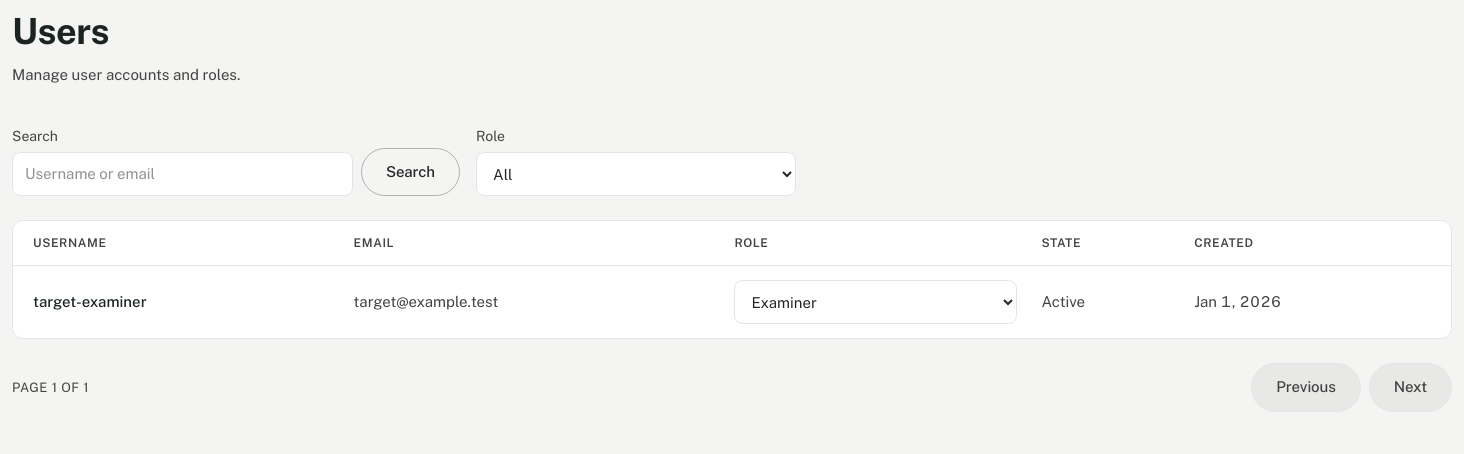
Test: admin role transition review › distinguishes an updated role from a rejected stale transition
Expected: the text "target-examiner" is shown, x1=13 y1=266 x2=342 y2=338
Select "Admin" in the dropdown named "Role for target-examiner" at (876, 302), box x1=734 y1=280 x2=1017 y2=324
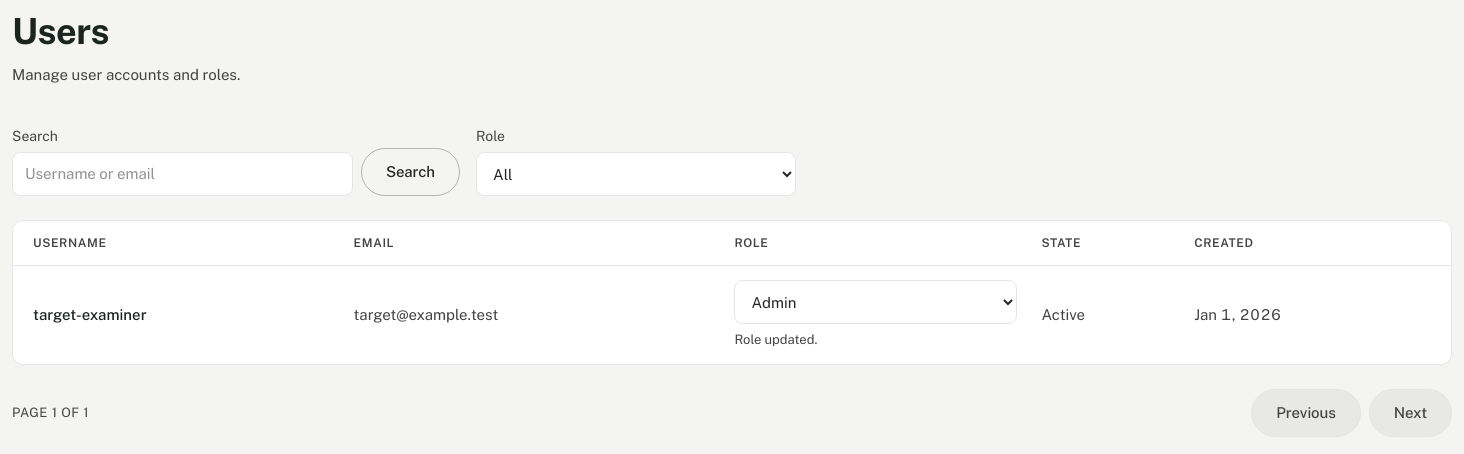
Expected: the text "Role updated." is shown, x1=734 y1=332 x2=818 y2=347
Select "Examiner" in the dropdown named "Role for target-examiner" at (876, 302), box x1=734 y1=280 x2=1017 y2=324
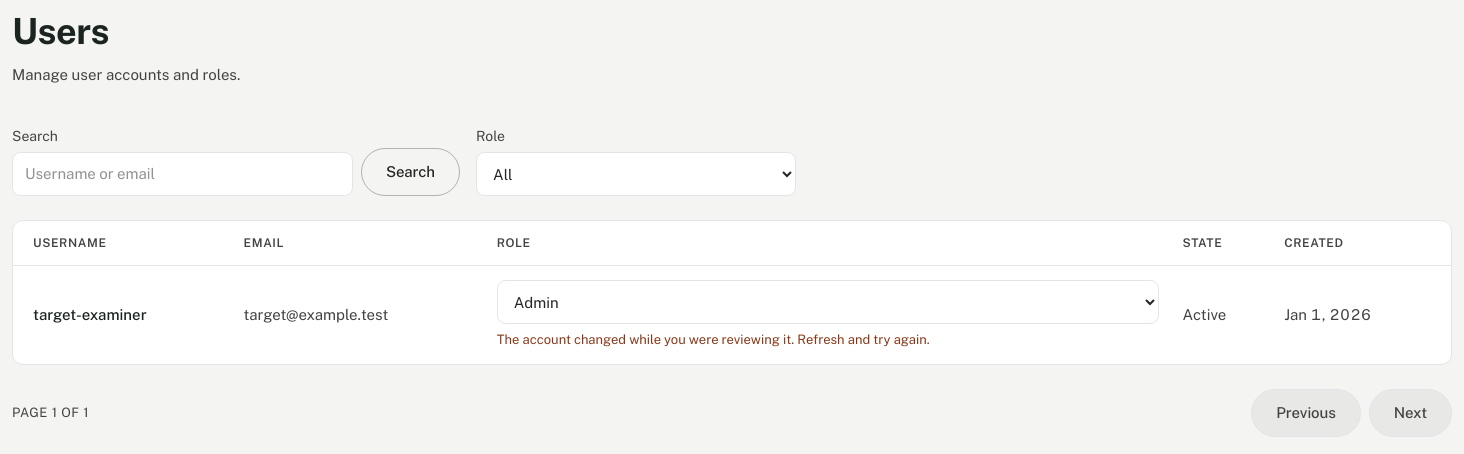
Expected: the text "The account changed while you were reviewing it. Refresh and try again." is shown, x1=497 y1=332 x2=930 y2=347
